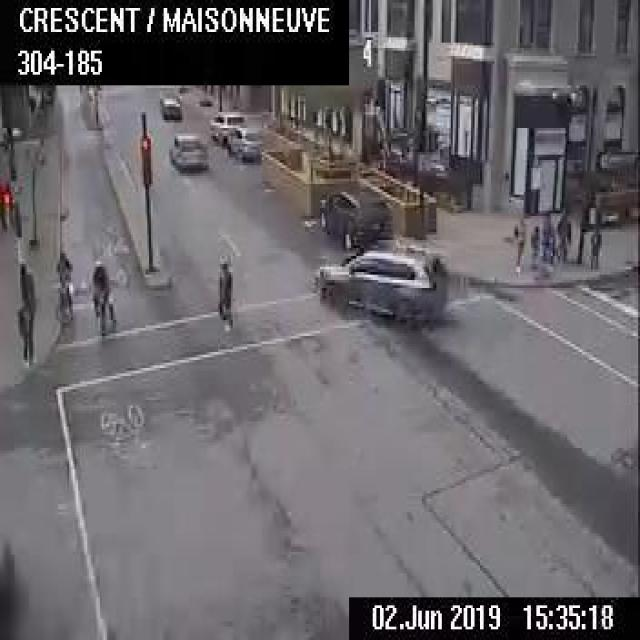pedestrian: (47, 246, 75, 326), (91, 253, 116, 328), (212, 253, 232, 328), (16, 300, 35, 362), (555, 208, 570, 265), (511, 208, 524, 272), (541, 208, 554, 264), (587, 221, 600, 267), (11, 196, 24, 238), (529, 222, 539, 272)
vehicle: (315, 235, 445, 317), (318, 186, 392, 248), (168, 131, 207, 169), (226, 125, 262, 160), (209, 109, 246, 142), (158, 92, 181, 118)
